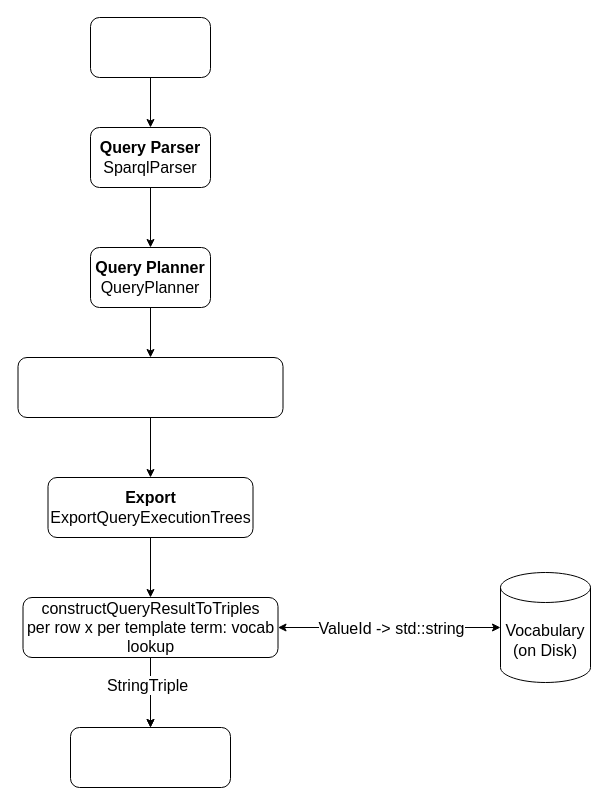
This 608x805 diagram has some shape labels left out. The shapes that lost their labels are listed below. From the top down, each one's centre as x and y in pixels, then its label:
At point (150, 47): "HTTP Request".
At point (150, 387): "Query Engine QueryExecutionTree::getResult()".
At point (150, 757): "HTTP Response Turtle / TSV / CSV / ...".
